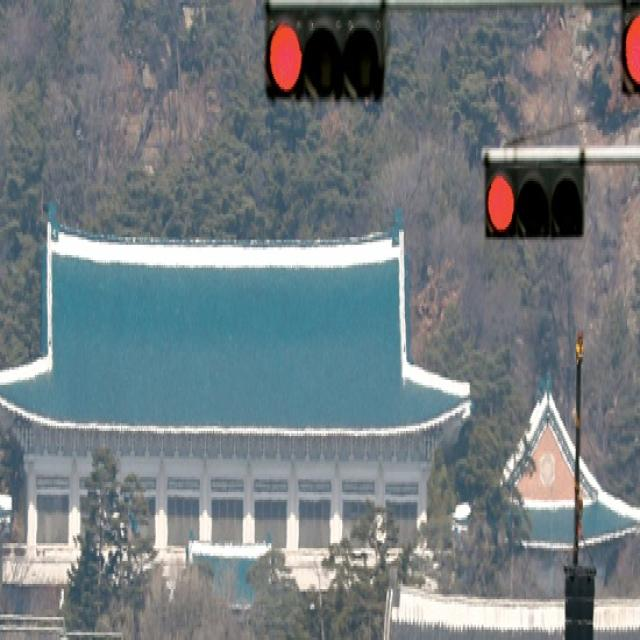red_light: (264, 7, 388, 103), (484, 148, 589, 245)
